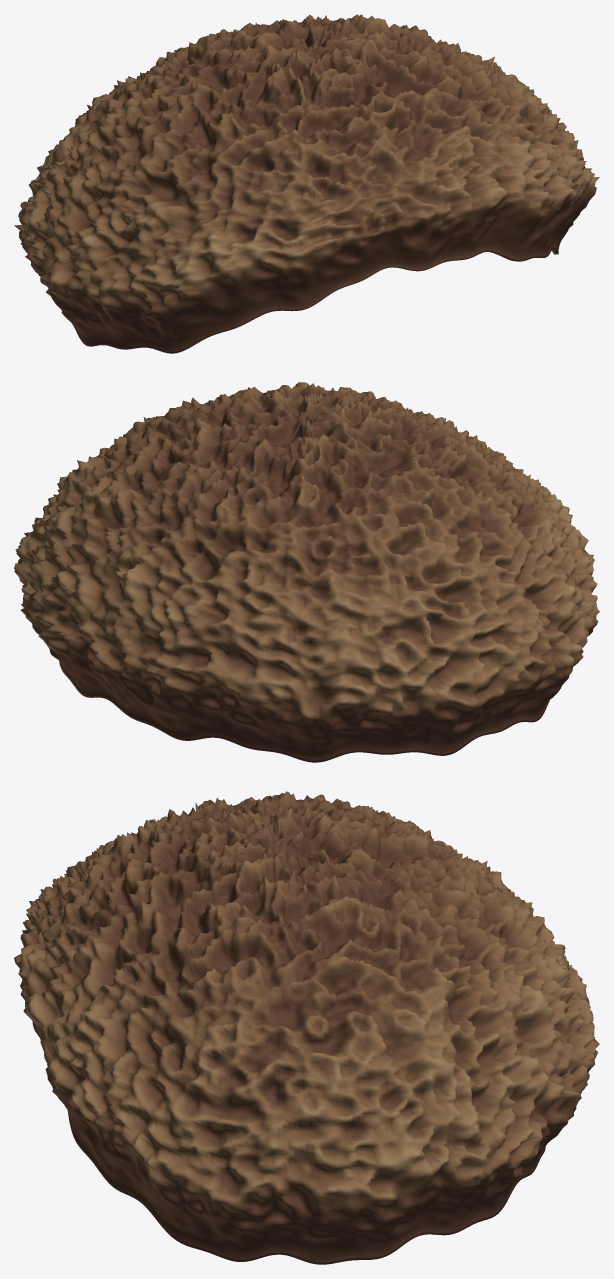
File: Masculine-afro-hair260-ombre.glb
The picture shows the model from 3 angles, top to bottom: view 1: azimuth 30°, elevation 25°; view 2: azimuth 150°, elevation 25°; view 3: azimuth 270°, elevation 25°; orthographic projection. The views are drawn at different scales.
Visible parts, largest first — view 1: 226 hair / Hair252 / dense natural coil groups.001; view 2: 226 hair / Hair252 / dense natural coil groups.001; view 3: 226 hair / Hair252 / dense natural coil groups.001.
Boxes of the visible parts, left/top/right/bottom form: 226 hair / Hair252 / dense natural coil groups.001: left=14, top=14, right=599, bottom=353; 226 hair / Hair252 / dense natural coil groups.001: left=14, top=382, right=599, bottom=762; 226 hair / Hair252 / dense natural coil groups.001: left=14, top=791, right=599, bottom=1264.
Size of the model in its own units: 1.12 by 0.513 by 0.8871.
